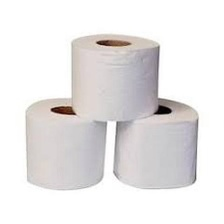tissue: (65, 30, 163, 124), (110, 92, 202, 192), (21, 95, 109, 193)
